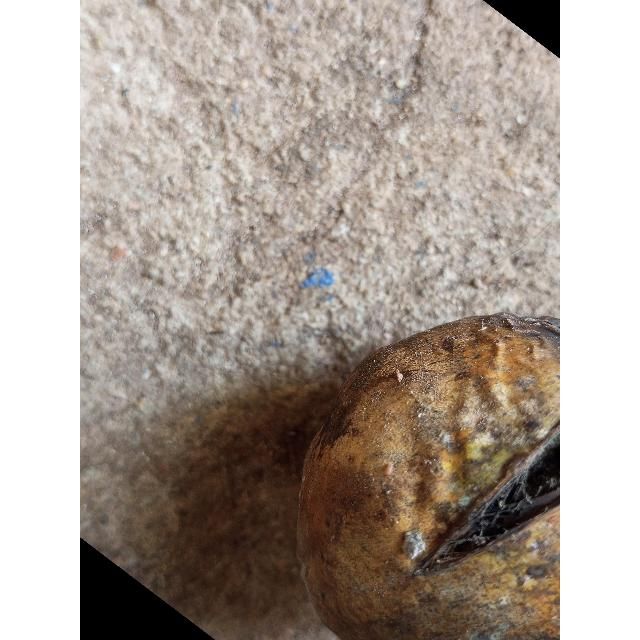damaged: (296, 313, 560, 640)
